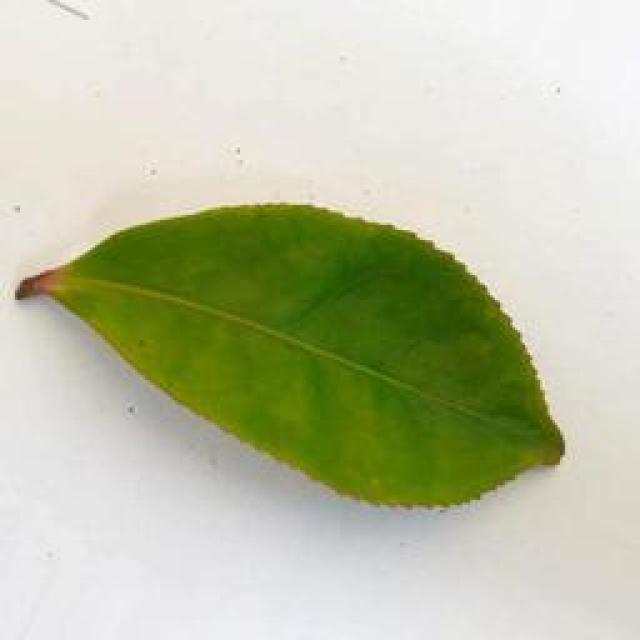Healthy: (16, 182, 573, 516)
